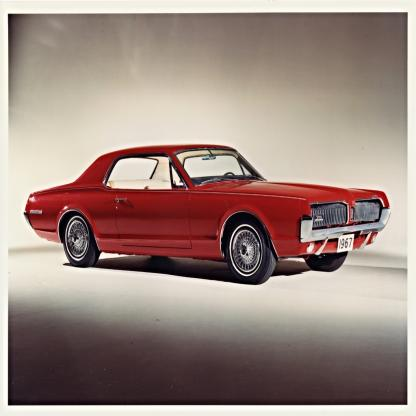Car: (25, 144, 393, 286)
